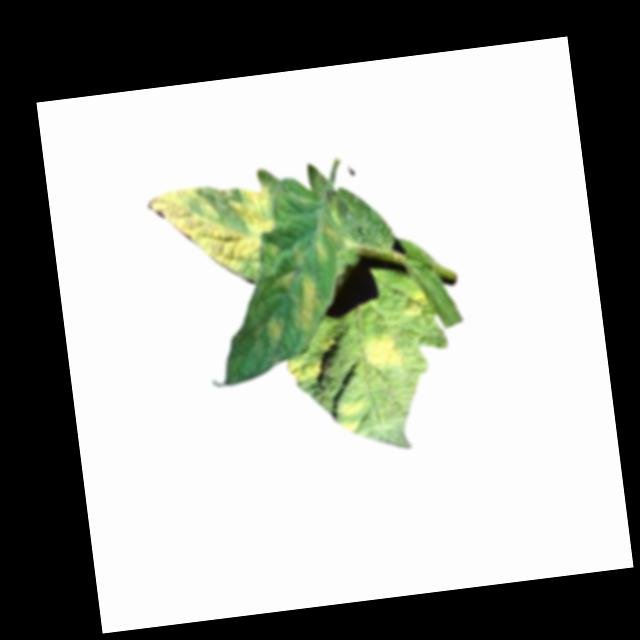Leaf_Mold: (145, 177, 281, 283), (356, 330, 404, 373), (290, 273, 321, 334), (333, 397, 368, 437), (285, 352, 321, 386), (401, 287, 434, 322), (265, 312, 287, 347)
